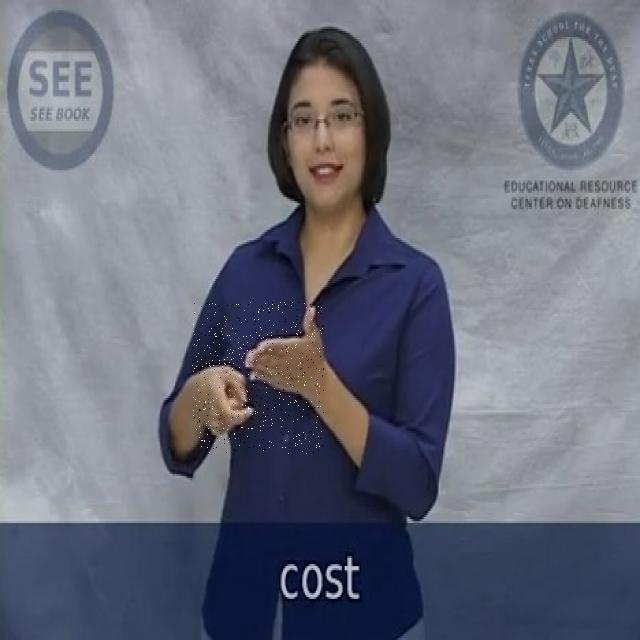cost: (192, 302, 324, 454)
